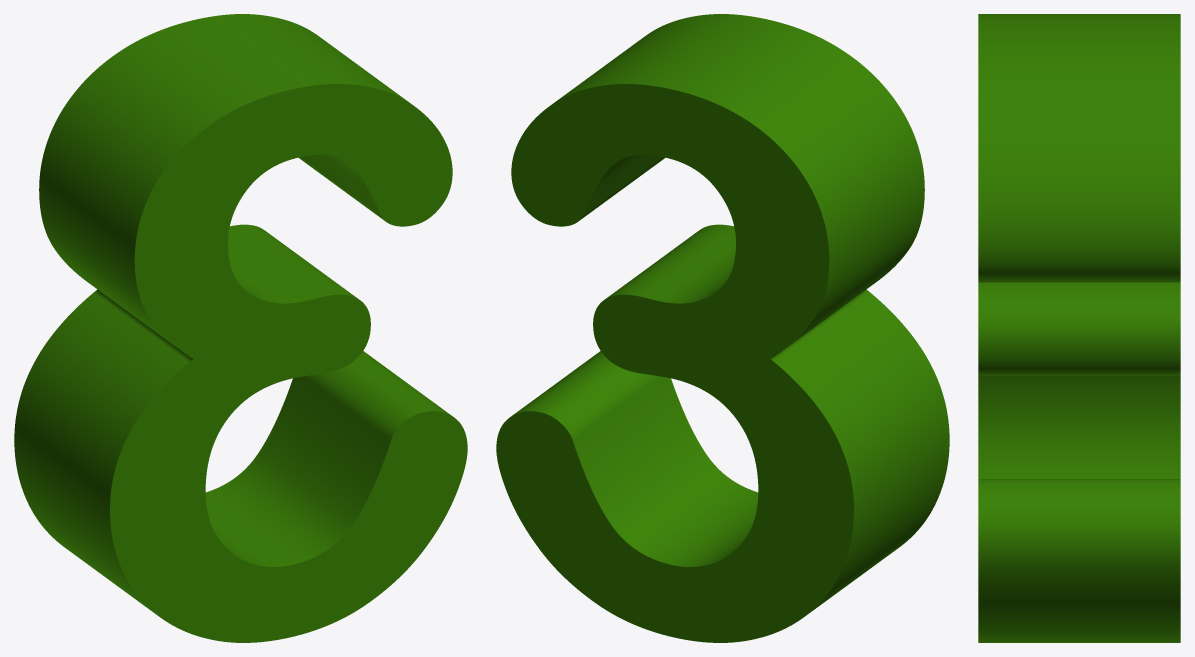
The picture shows the model from 3 angles, left to right: view 1: azimuth 30°, elevation 25°; view 2: azimuth 150°, elevation 25°; view 3: azimuth 270°, elevation 25°; orthographic projection. The views are drawn at different scales.
Visible parts, largest first — view 1: テキスト; view 2: テキスト; view 3: テキスト.
Boxes of the visible parts, x1=… form: テキスト: x1=14, y1=14, x2=467, y2=642; テキスト: x1=496, y1=14, x2=949, y2=642; テキスト: x1=978, y1=14, x2=1180, y2=642.
Bounding box in the file's own units: 0.4321 × 0.6321 × 0.2.
